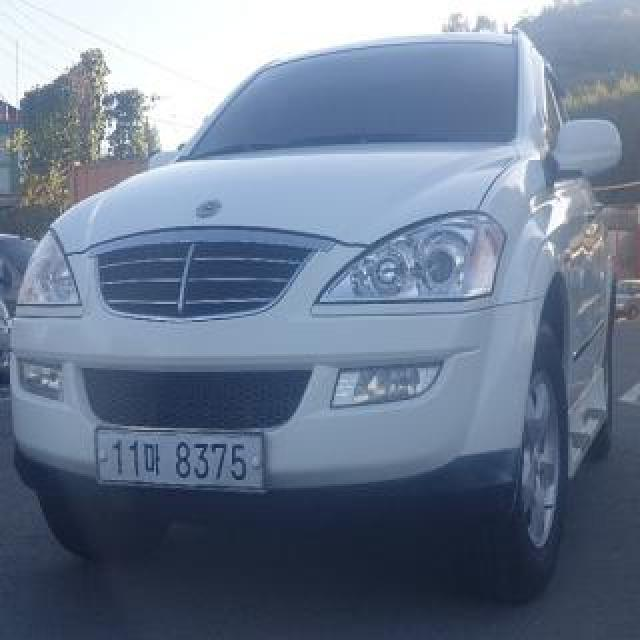car: (0, 27, 628, 596)
illegal_plate: (94, 419, 268, 505)
